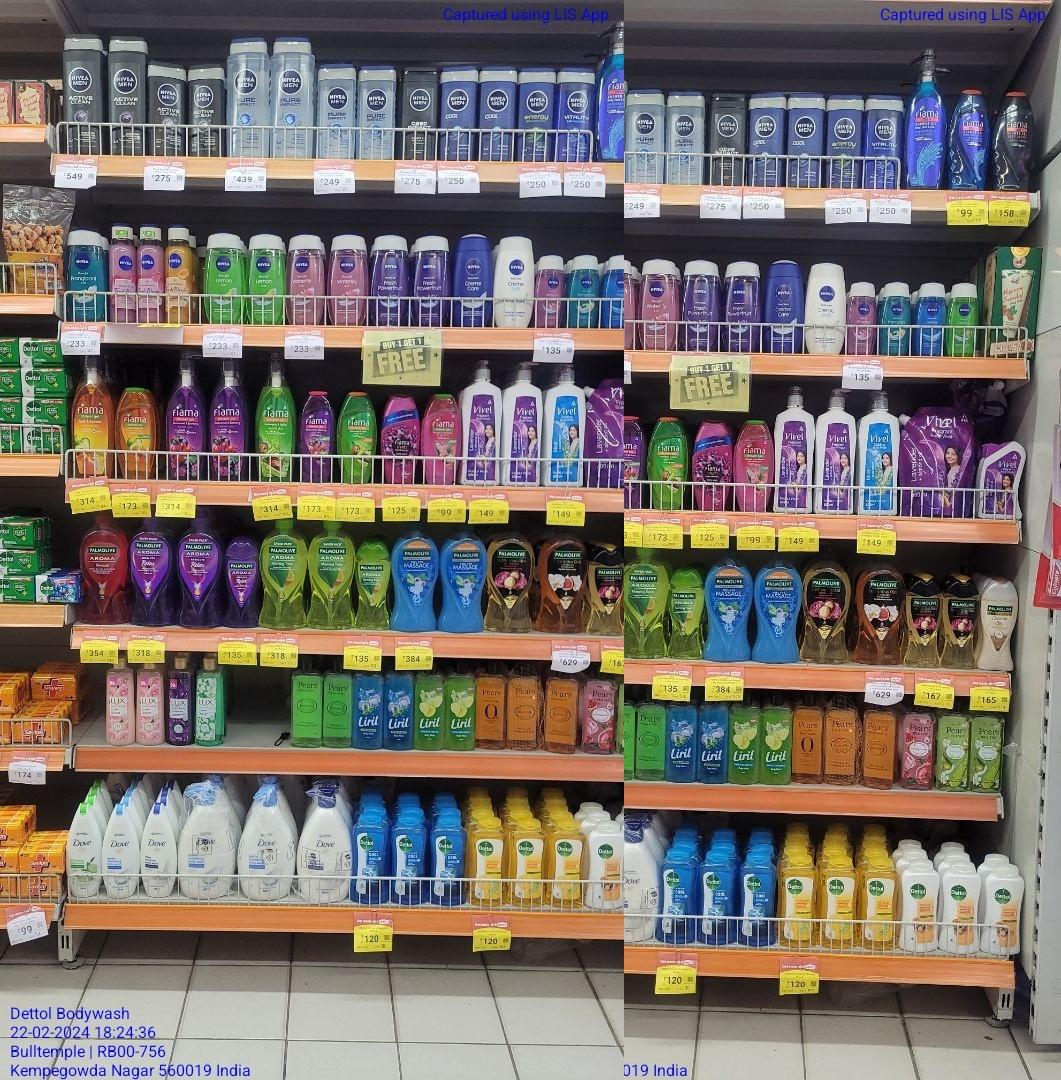Dettol_Bodywash_Cool: (350, 811, 390, 903), (391, 815, 428, 904), (696, 860, 735, 943), (433, 816, 467, 909), (739, 863, 775, 946), (662, 855, 696, 942)
Dettol_Bodywash_Refresh: (861, 856, 900, 948), (825, 858, 858, 949), (782, 859, 815, 948), (550, 820, 583, 905), (515, 825, 548, 907), (472, 823, 504, 907)
Dettol_Nourish_Body_Wash_250ML: (985, 868, 1026, 959), (902, 862, 941, 955), (943, 862, 978, 954), (589, 827, 623, 910)
Dove_Deep_Moisture_Body_Wash_250ML: (140, 804, 174, 898)
Dove_Gentle_Exfoliating_Body_Wash_250ML: (105, 801, 137, 900)
Dove_Refreshing_Body_Wash_250ML: (65, 802, 100, 900)
Fiama_Shower_Gel_Lemongrass_and_Jojoba_250ML: (335, 393, 377, 484), (650, 415, 687, 512)
Fiama_Shower_Gel_Patchouli_and_Macadamia_250ML: (423, 395, 458, 488), (734, 421, 769, 512)
Fiama_Shower_Gel_Peach_and_Avocado_250ML: (118, 390, 157, 480)
Lux_Black_Orchid_Scent_and_Juniper_Oil_Body_Wash_245ML: (166, 659, 192, 746)
Lux_Body_Wash_Skin_Detox_Freesia_Scent_and_Alove_Vera_245ML: (194, 660, 221, 743)
Nivea_Shower_Gel_Frangipani_and_Oil_250ML: (66, 231, 108, 317)
Nivea_Shower_Gel_Fresh_Powerfruit_250ML: (367, 235, 406, 327), (721, 263, 761, 350), (411, 235, 447, 327), (683, 262, 715, 353)
Nivea_Shower_Gel_Lemon_and_Oil_250ML: (205, 233, 247, 326), (246, 233, 283, 327)
Nivea_Shower_Gel_Waterlily_and_Oil_250ML: (286, 232, 324, 327), (639, 261, 677, 353), (330, 235, 363, 326)
Palmolive_Aroma_Morning_Tonic_Shower_Gel_250ML: (355, 541, 391, 629), (665, 569, 698, 661)
Palmolive_Aroma_Relax_250ML: (225, 542, 255, 622)
Palmolive_Coconut_Joy_Exfoliating_Body_Wash_250ML: (979, 579, 1019, 673)
Palmolive_Luminous_Oils_Invigorating_Macadamia_Oil_With_Peony_250ML: (943, 576, 977, 668), (904, 574, 938, 666), (588, 543, 622, 635)
